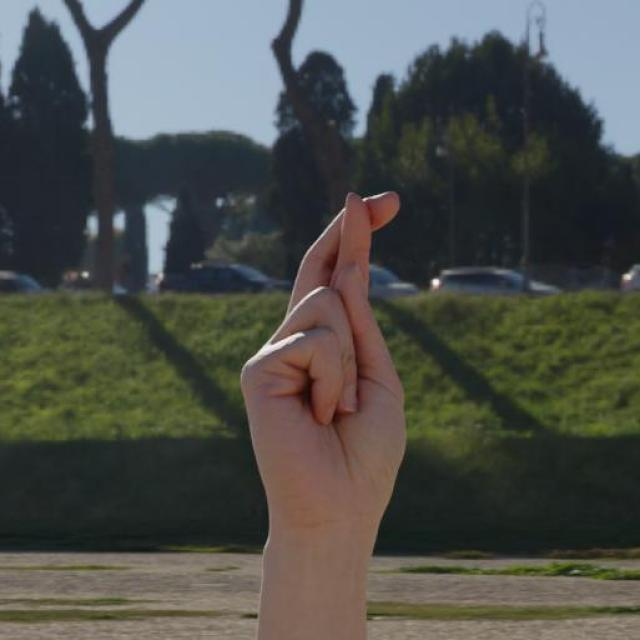R: (238, 187, 411, 538)
